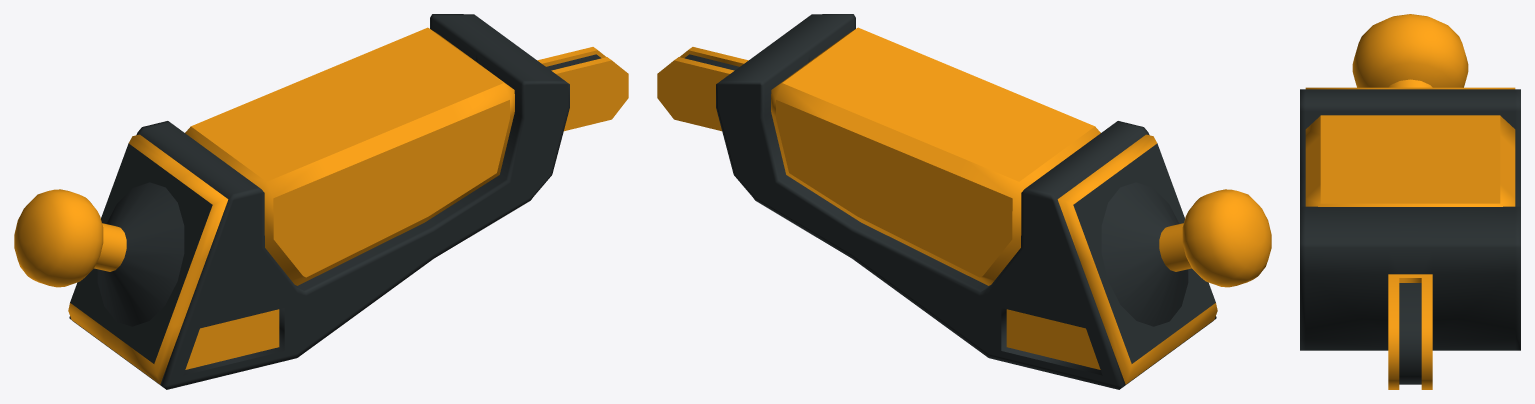
File: Straw_Dog_4_right_leg.obj
The picture shows the model from 3 angles, left to right: view 1: azimuth 30°, elevation 25°; view 2: azimuth 150°, elevation 25°; view 3: azimuth 270°, elevation 25°; orthographic projection. The views are drawn at different scales.
Parts seen in each view (by area): view 1: right_leg_Cube.006; view 2: right_leg_Cube.006; view 3: right_leg_Cube.006.
Part boxes in pixels (bbox=[...]): right_leg_Cube.006: bbox=[14, 14, 628, 389]; right_leg_Cube.006: bbox=[657, 14, 1271, 389]; right_leg_Cube.006: bbox=[1300, 14, 1520, 389].
Size of the model in its own units: 5.16 by 1.82 by 1.4.
